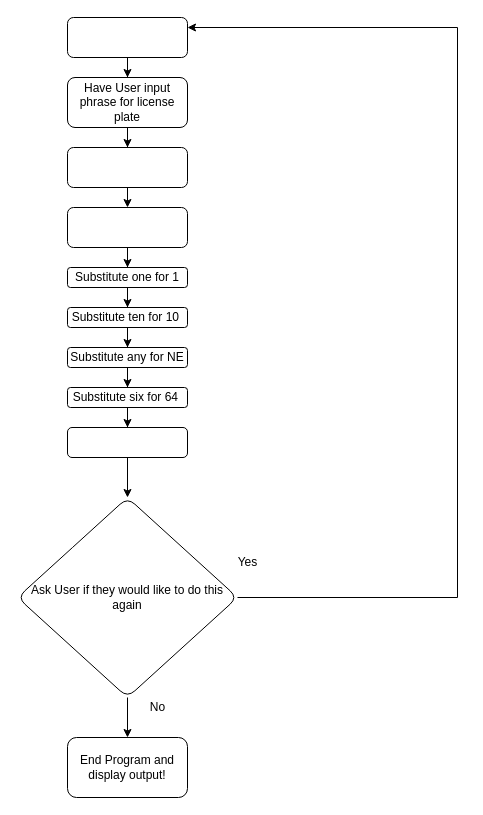
The diagram is 483 pixels wide and 815 high, and some of its shapes have lost their labels. The shapes that lost their labels are listed below. From the top down, each one's centre as x and y in pixels, then its label:
point 127,37: Greet User!
point 127,167: Convert the entire phrase all lower case
point 127,227: Now, the lower case phrase will go through functions
point 127,442: Remove all punctuations
